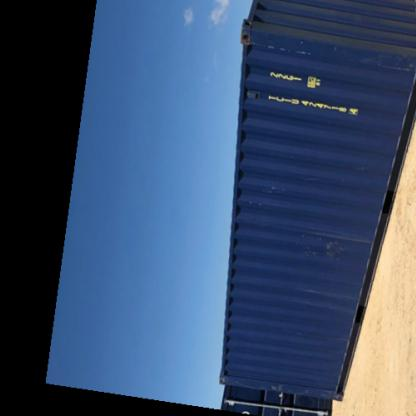Damage: (266, 30, 412, 71), (298, 218, 346, 264), (242, 169, 286, 215)
